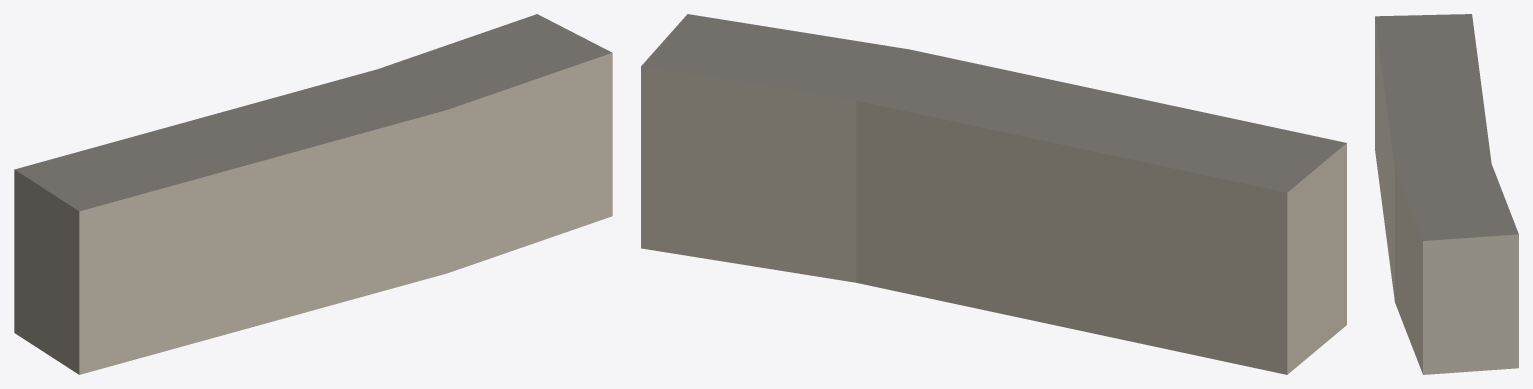
3 views of the same model, side by side, from view 1: azimuth 30°, elevation 25°; view 2: azimuth 150°, elevation 25°; view 3: azimuth 270°, elevation 25° (orthographic). The views are drawn at different scales.
Parts seen in each view (by area): view 1: HP-w859424188; view 2: HP-w859424188; view 3: HP-w859424188.
Part boxes in pixels (x1,y1,x2,y2): HP-w859424188: [14, 14, 612, 374]; HP-w859424188: [641, 14, 1346, 374]; HP-w859424188: [1375, 14, 1518, 374].
Bounding box in the file's own units: 65.45 × 18 × 17.53.
